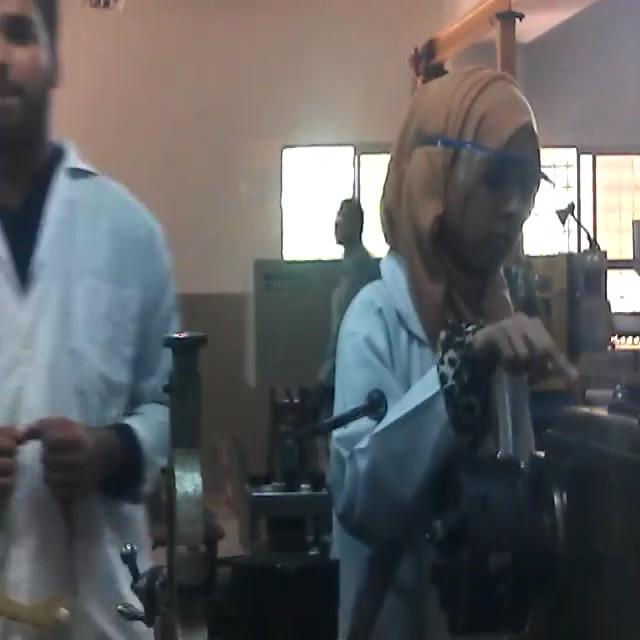googles: (436, 113, 554, 225)
labcoat: (0, 146, 184, 640), (331, 244, 557, 640)
